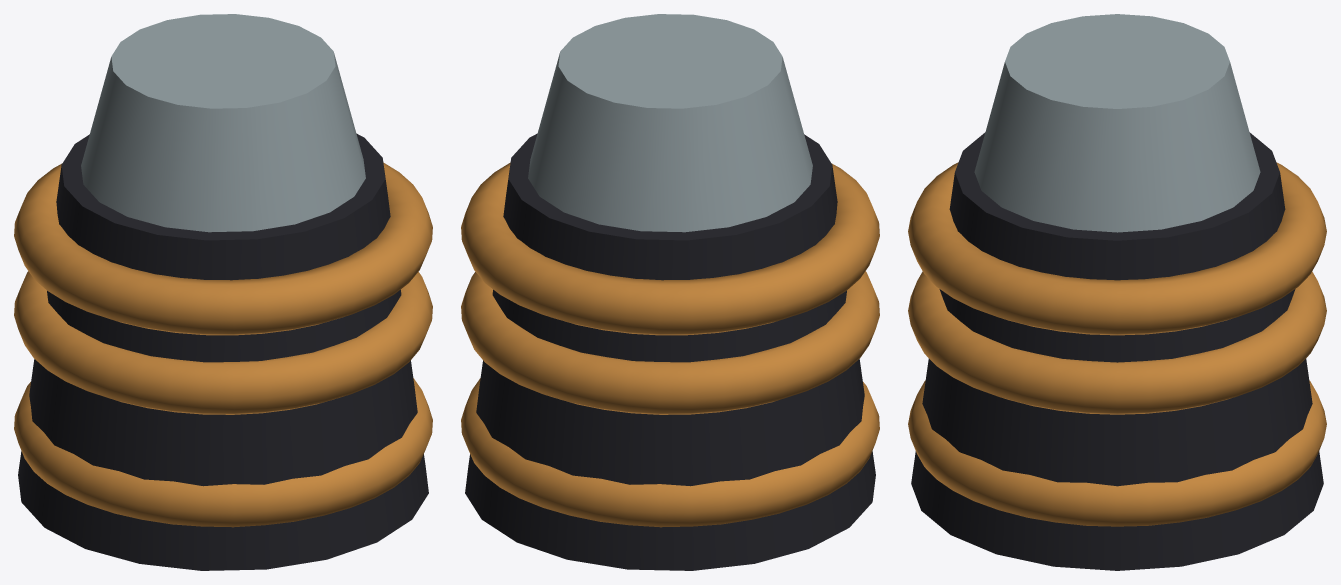
Rendered from mia-hanging_bulb.glb.
3 views of the same model, side by side, from view 1: azimuth 30°, elevation 25°; view 2: azimuth 150°, elevation 25°; view 3: azimuth 270°, elevation 25° (orthographic).
Visible parts, largest first — view 1: Body_iron, Body_brass, Body_steel; view 2: Body_iron, Body_brass, Body_steel; view 3: Body_iron, Body_brass, Body_steel.
Part boxes in pixels (box(x1,y1,x2,y2)): Body_iron: box(18, 133, 428, 570); Body_brass: box(14, 162, 432, 527); Body_steel: box(81, 14, 365, 232); Body_iron: box(465, 133, 875, 570); Body_brass: box(461, 162, 879, 527); Body_steel: box(528, 14, 812, 232); Body_iron: box(911, 132, 1323, 570); Body_brass: box(908, 162, 1326, 526); Body_steel: box(974, 14, 1260, 232).
Bounding box in the file's own units: 0.067 × 0.0745 × 0.067.
